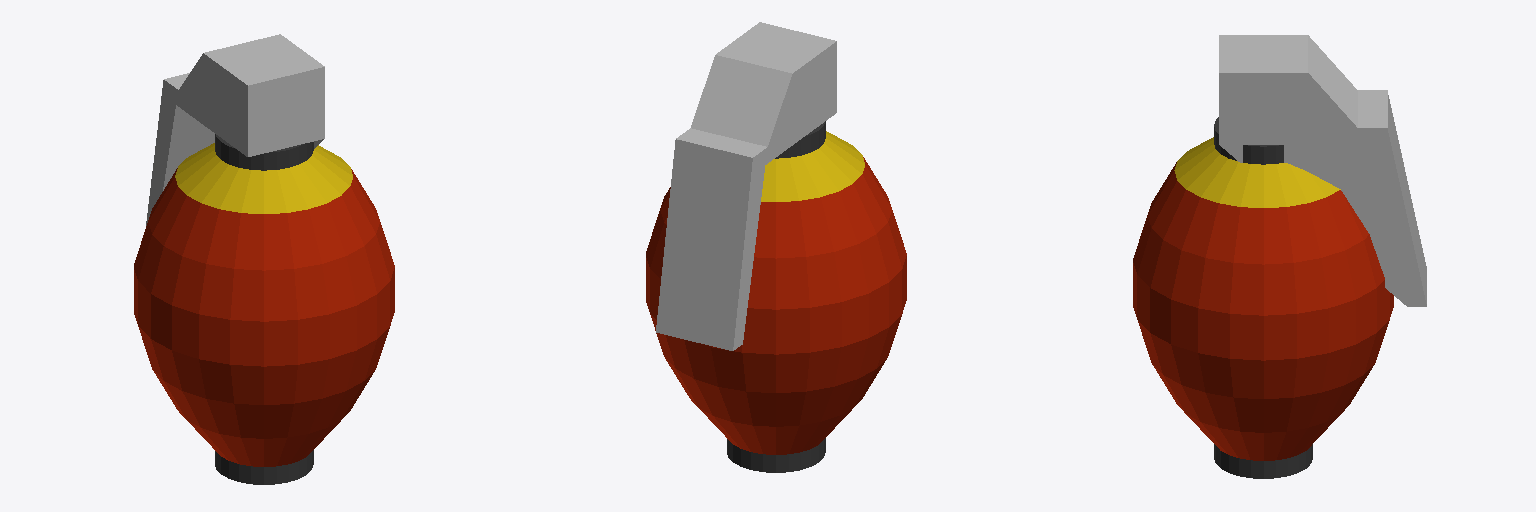
Rendered from grenade.obj.
3 renders of one model, left to right at view 1: azimuth 30°, elevation 25°; view 2: azimuth 150°, elevation 25°; view 3: azimuth 270°, elevation 25°, orthographic.
Visible parts, largest first — view 1: mergedBlocks; view 2: mergedBlocks; view 3: mergedBlocks.
Boxes of the visible parts, x1,y1,x2,y2 form: mergedBlocks: [134, 34, 394, 484]; mergedBlocks: [646, 22, 906, 472]; mergedBlocks: [1133, 35, 1426, 478].
Bounding box in the file's own units: 0.3165 × 0.54 × 0.3563.